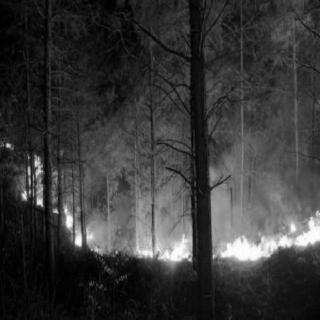Fire: (17, 146, 93, 252)
